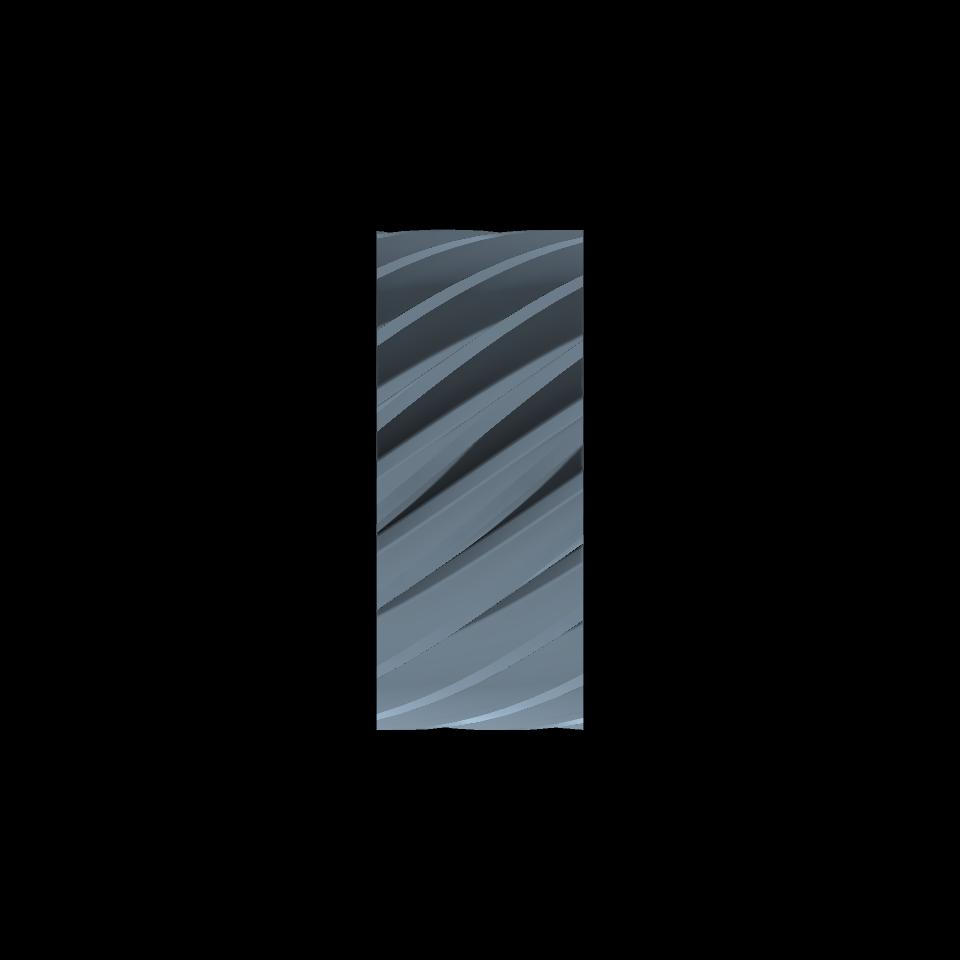Helical: (377, 230, 583, 730)
